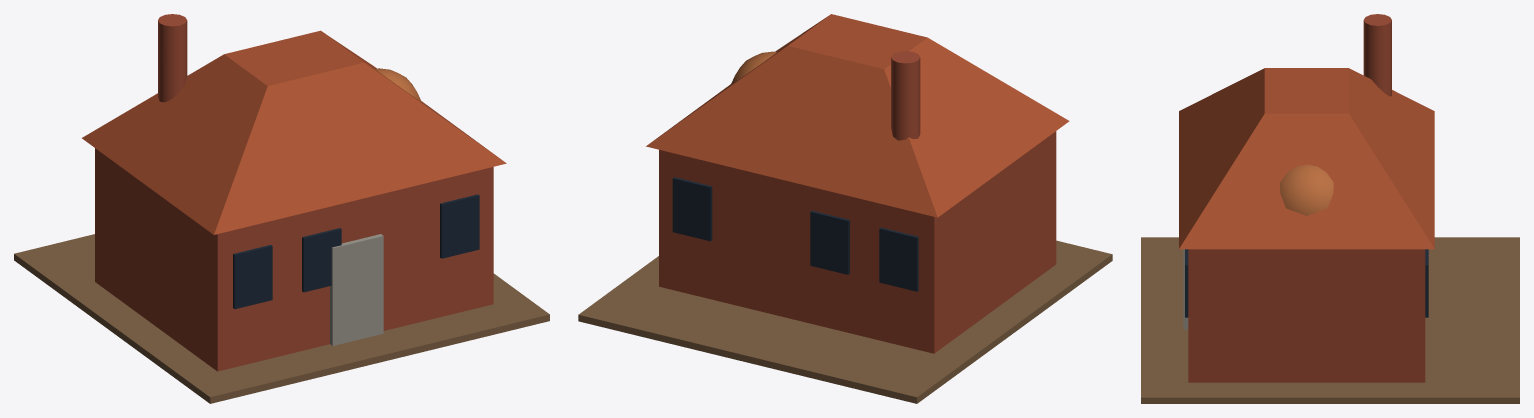
Rendered from bld_special_laboratory_a04.glb.
The picture shows the model from 3 angles, left to right: view 1: azimuth 30°, elevation 25°; view 2: azimuth 150°, elevation 25°; view 3: azimuth 270°, elevation 25°; orthographic projection. The views are drawn at different scales.
Visible parts, largest first — view 1: body; view 2: body; view 3: body.
Part boxes in pixels (x1=…): body: x1=14, y1=14, x2=549, y2=403; body: x1=578, y1=14, x2=1112, y2=403; body: x1=1141, y1=14, x2=1519, y2=403.
Size of what is drawn, in the model's own units: 8 by 6.15 by 8.
